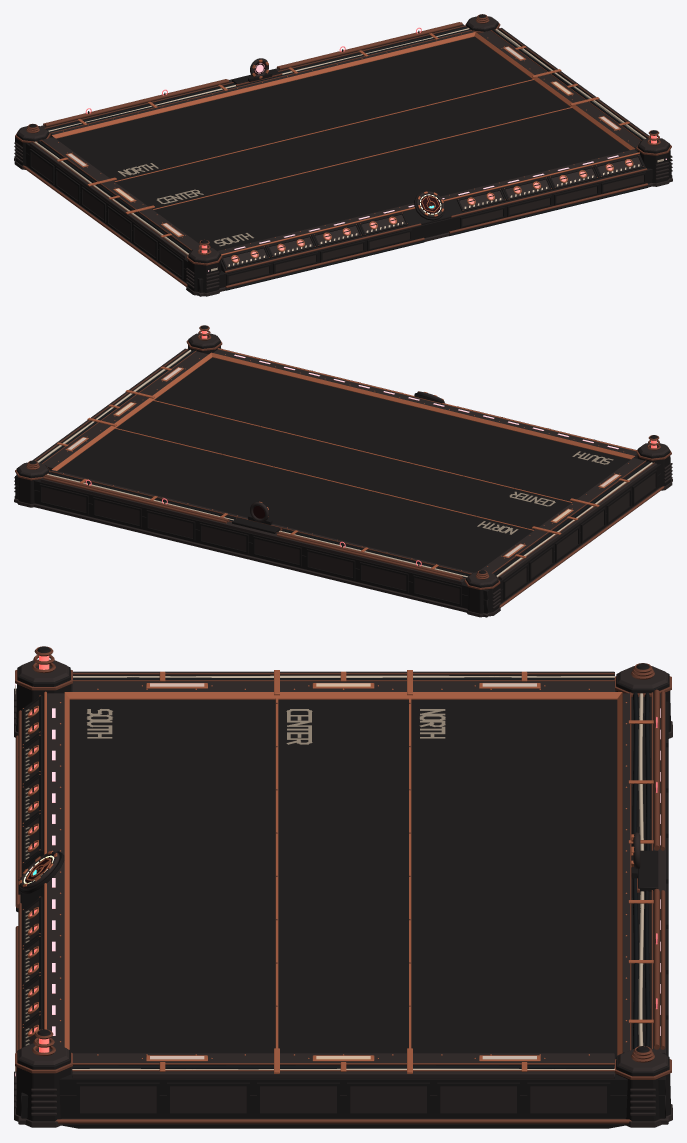
The model's file is core.glb.
The picture shows the model from 3 angles, top to bottom: view 1: azimuth 30°, elevation 25°; view 2: azimuth 150°, elevation 25°; view 3: azimuth 270°, elevation 25°; orthographic projection. The views are drawn at different scales.
Parts seen in each view (by area): view 1: body_board_steel, body_board_panel, body_board_trim_bright, body_board_trim, body_board_rubber, body_board_ivory, body_glow_ember; view 2: body_board_steel, body_board_panel, body_board_trim_bright, body_board_trim, body_board_rubber, body_board_ivory; view 3: body_board_steel, body_board_panel, body_board_trim_bright, body_board_trim, body_board_rubber, body_board_ivory, body_accent_glow.
Boxes of the visible parts, left/top/right/bottom form: body_board_steel: left=15, top=14, right=671, bottom=292; body_board_panel: left=14, top=16, right=672, bottom=296; body_board_trim_bright: left=52, top=32, right=643, bottom=268; body_board_trim: left=15, top=14, right=671, bottom=288; body_board_rubber: left=37, top=26, right=647, bottom=290; body_board_ivory: left=34, top=28, right=663, bottom=271; body_glow_ember: left=201, top=135, right=656, bottom=261; body_board_steel: left=15, top=325, right=671, bottom=613; body_board_panel: left=14, top=333, right=672, bottom=617; body_board_trim_bright: left=52, top=348, right=636, bottom=570; body_board_trim: left=15, top=325, right=671, bottom=607; body_board_rubber: left=39, top=350, right=649, bottom=578; body_board_ivory: left=37, top=349, right=652, bottom=577; body_board_steel: left=16, top=646, right=670, bottom=1128; body_board_panel: left=14, top=659, right=672, bottom=1127; body_board_trim_bright: left=18, top=670, right=653, bottom=1073; body_board_trim: left=15, top=646, right=671, bottom=1123; body_board_rubber: left=16, top=677, right=650, bottom=1069; body_board_ivory: left=15, top=675, right=644, bottom=1073; body_accent_glow: left=15, top=683, right=660, bottom=1076.
Bounding box in the file's own units: 18.87 × 2.53 × 12.87.
